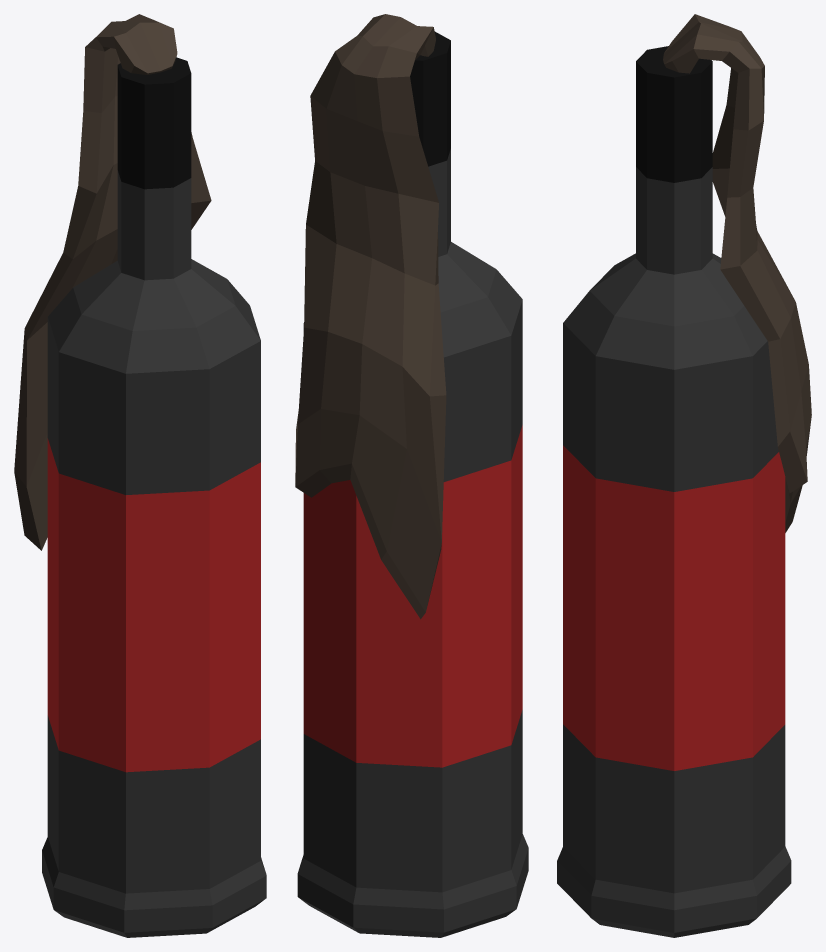
The model's file is Incendiary Grenade East.glb.
The picture shows the model from 3 angles, left to right: view 1: azimuth 30°, elevation 25°; view 2: azimuth 150°, elevation 25°; view 3: azimuth 270°, elevation 25°; orthographic projection. The views are drawn at different scales.
Visible parts, largest first — view 1: Incendiary_East; view 2: Incendiary_East; view 3: Incendiary_East.
Part boxes in pixels (bbox=[...]): Incendiary_East: bbox=[14, 14, 266, 937]; Incendiary_East: bbox=[295, 14, 528, 937]; Incendiary_East: bbox=[557, 14, 811, 937].
Size of the model in its own units: 0.0604 by 0.2473 by 0.0657.
